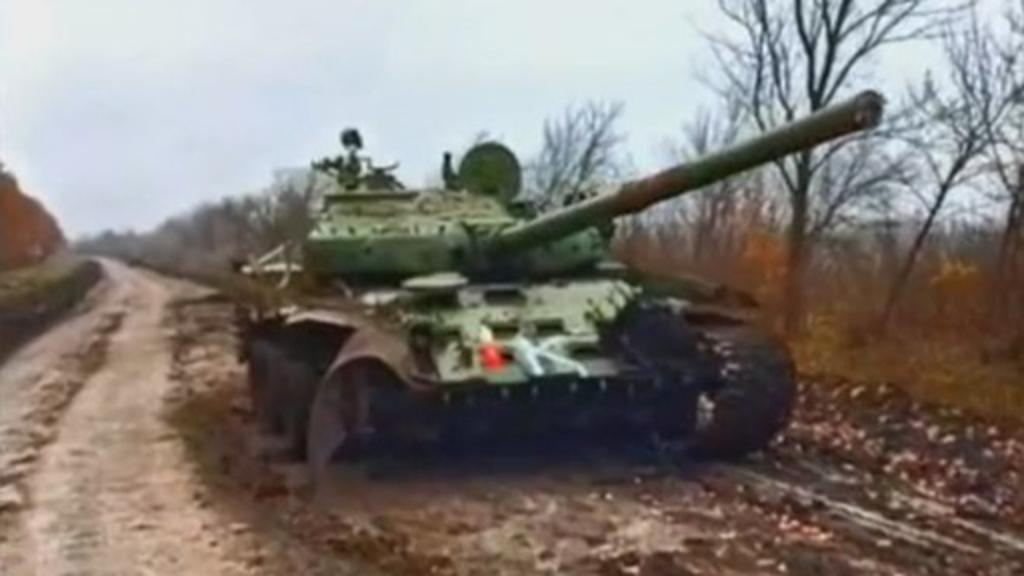TANK: (196, 76, 898, 478)
